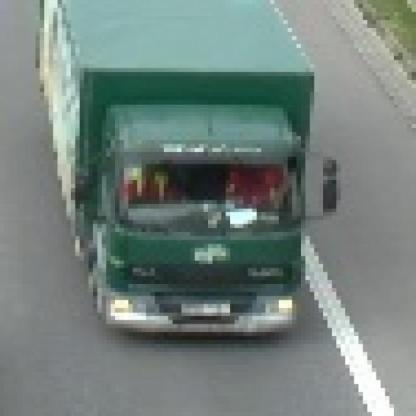truck: (32, 1, 337, 337)
